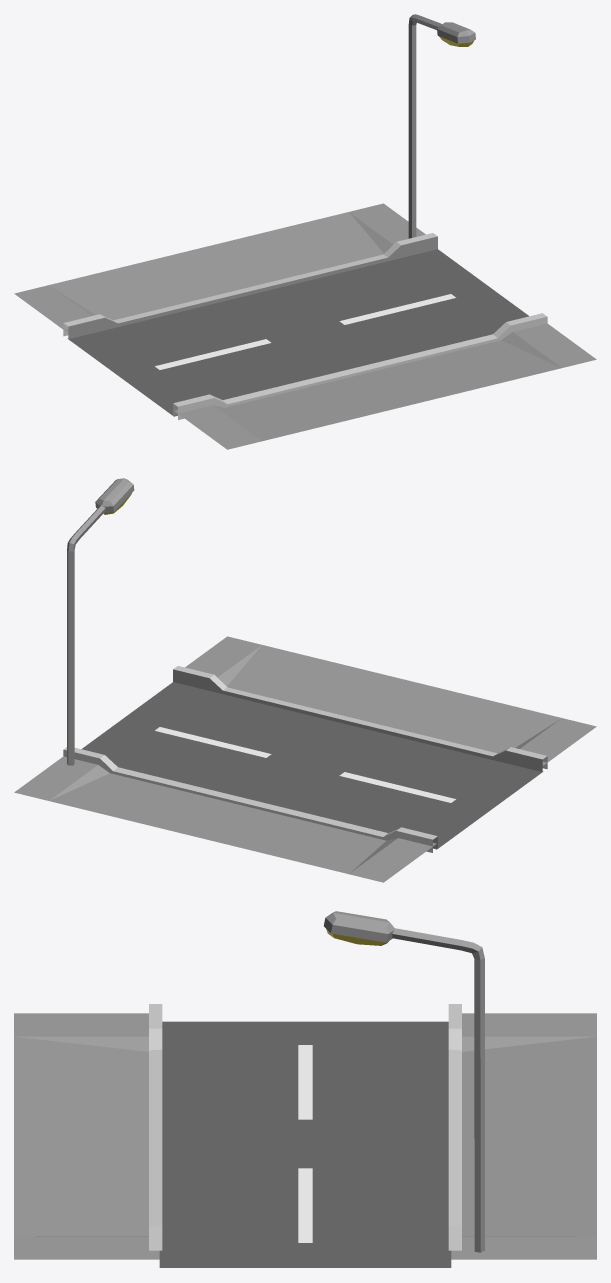
File: road_tile_1x1_009.fbx
3 renders of one model, top to bottom at view 1: azimuth 30°, elevation 25°; view 2: azimuth 150°, elevation 25°; view 3: azimuth 270°, elevation 25°, orthographic. The views are drawn at different scales.
Visible parts, largest first — view 1: road_tile_1x1_009; view 2: road_tile_1x1_009; view 3: road_tile_1x1_009.
Part boxes in pixels (x1=…): road_tile_1x1_009: x1=14, y1=14, x2=596, y2=449; road_tile_1x1_009: x1=14, y1=478, x2=596, y2=882; road_tile_1x1_009: x1=14, y1=911, x2=596, y2=1267.
Size of the model in its own units: 800 by 525 by 800.
